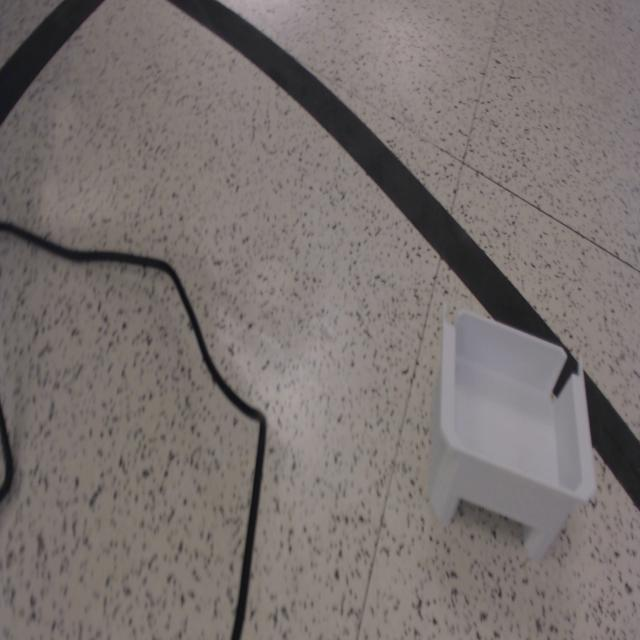wbox: (426, 303, 597, 562)
